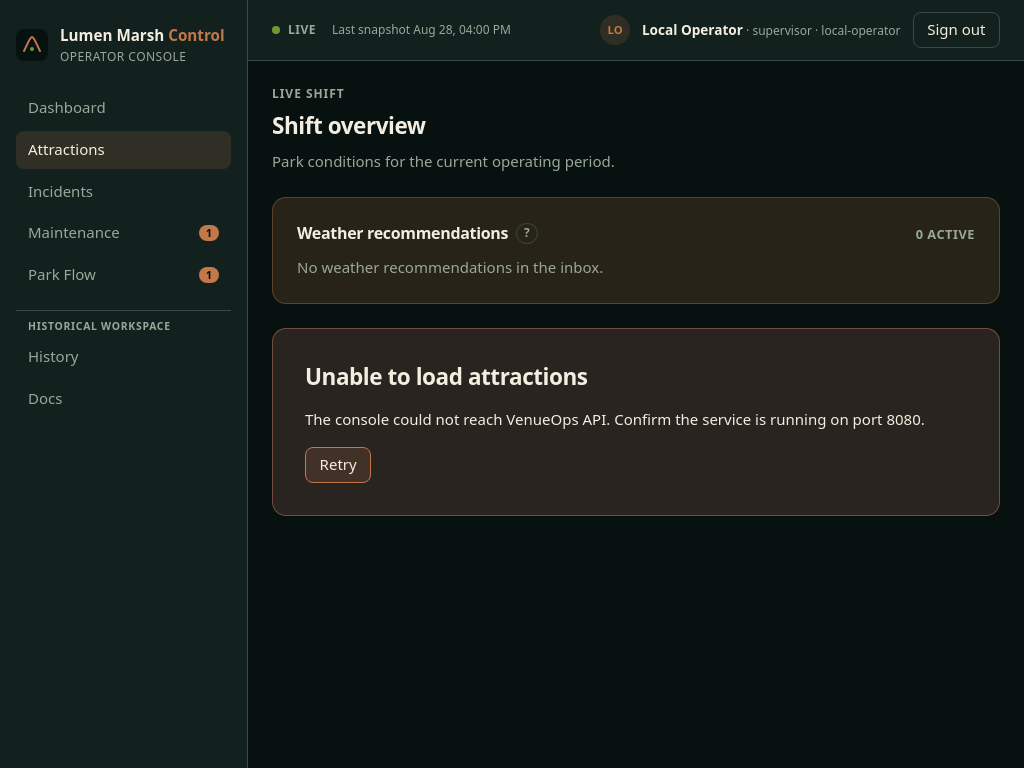
Scenario: attraction catalog › renders retry behavior after a network failure
Expected: the message shows "Unable to load attractions", [305,361,588,392]
Click the button "Retry". click: click(338, 465)
box: [305,447,371,483]
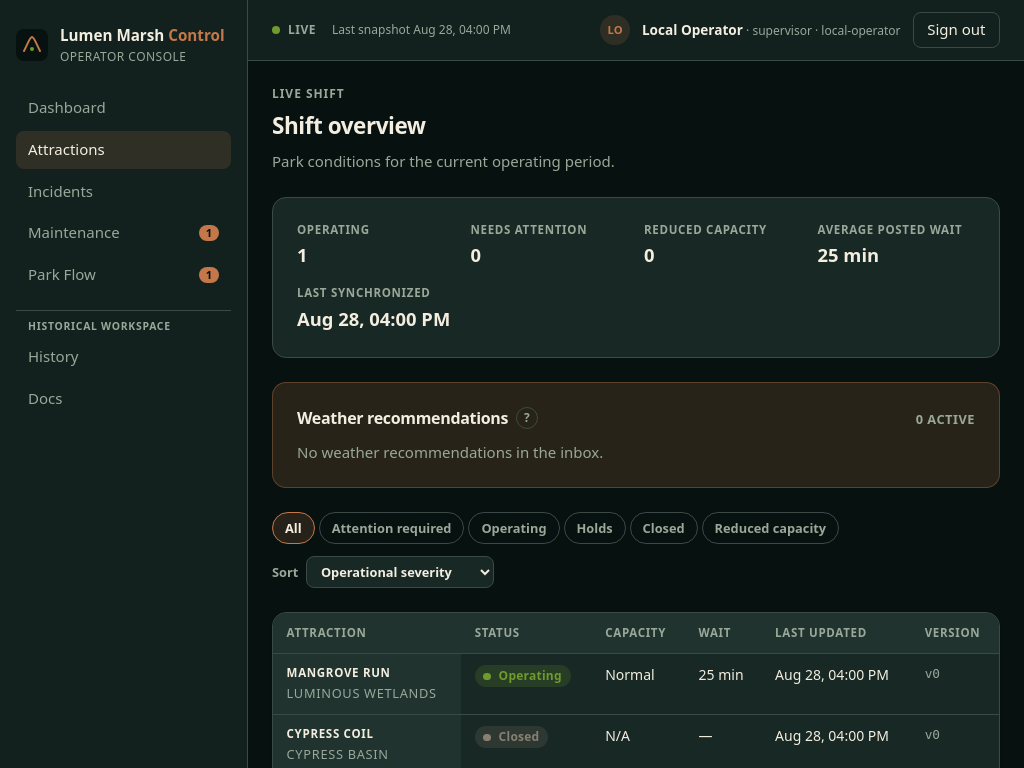
Now the link "Mangrove Run Luminous Wetlands" is shown, box [287,665,447,702]
